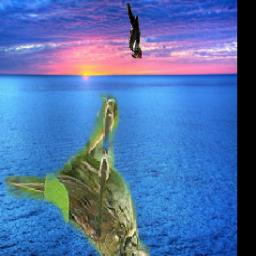Sparrow: (6, 94, 151, 256)
Woodpecker: (127, 2, 142, 58)
